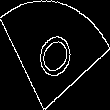O_SW: (30, 23, 80, 87)
